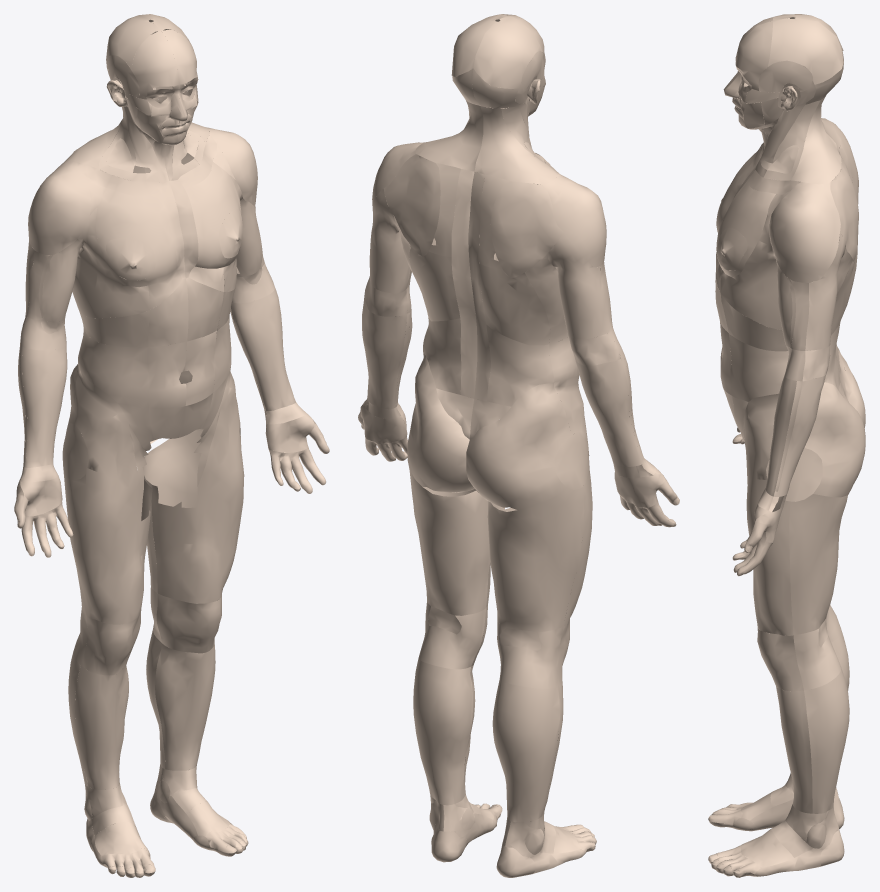
Rendered from lod0-skin.glb.
The picture shows the model from 3 angles, left to right: view 1: azimuth 30°, elevation 25°; view 2: azimuth 150°, elevation 25°; view 3: azimuth 270°, elevation 25°; orthographic projection. The views are drawn at different scales.
Parts seen in each view (by area): view 1: skin::torso, skin::leg-left, skin::leg-right, skin::arm-right, skin::head, skin::arm-left; view 2: skin::torso, skin::leg-right, skin::leg-left, skin::arm-right, skin::head, skin::arm-left; view 3: skin::leg-left, skin::torso, skin::arm-left, skin::head, skin::leg-right.
Boxes of the visible parts, <box> form: skin::torso: <box>63,129,242,450</box>; skin::leg-left: <box>142,335,248,856</box>; skin::leg-right: <box>63,368,155,877</box>; skin::arm-right: <box>14,156,91,557</box>; skin::head: <box>70,14,209,183</box>; skin::arm-left: <box>205,127,329,493</box>; skin::torso: <box>383,142,579,509</box>; skin::leg-right: <box>487,374,596,877</box>; skin::leg-left: <box>408,390,502,862</box>; skin::arm-right: <box>543,173,679,527</box>; skin::head: <box>415,14,557,184</box>; skin::arm-left: <box>358,142,426,461</box>; skin::leg-left: <box>708,393,849,877</box>; skin::torso: <box>715,123,865,497</box>; skin::arm-left: <box>732,182,845,576</box>; skin::head: <box>723,14,843,184</box>; skin::leg-right: <box>708,351,849,831</box>.
Size of the model in its own units: 0.6801 by 1.71 by 0.294.
